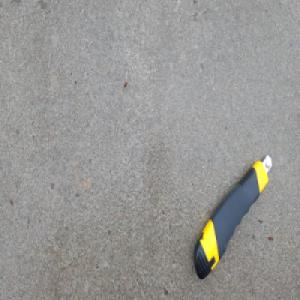Cutter: (192, 150, 273, 279)
